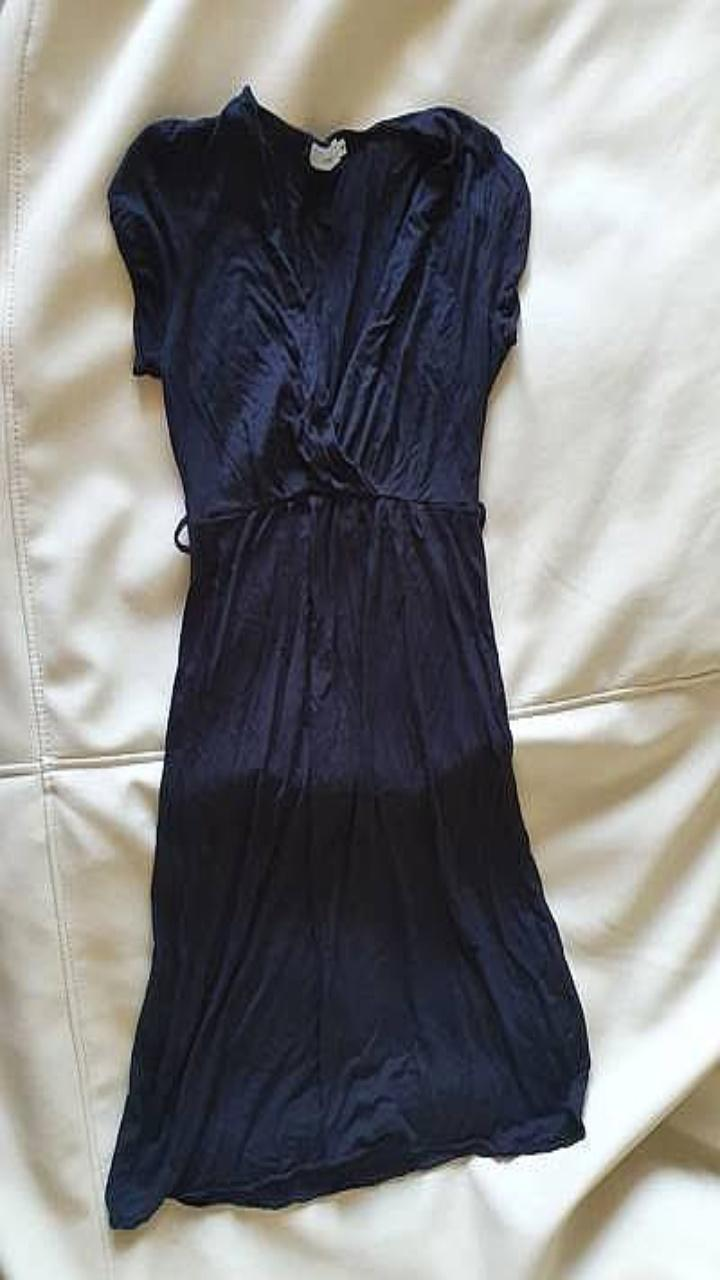Dresses: (106, 84, 589, 1227)
